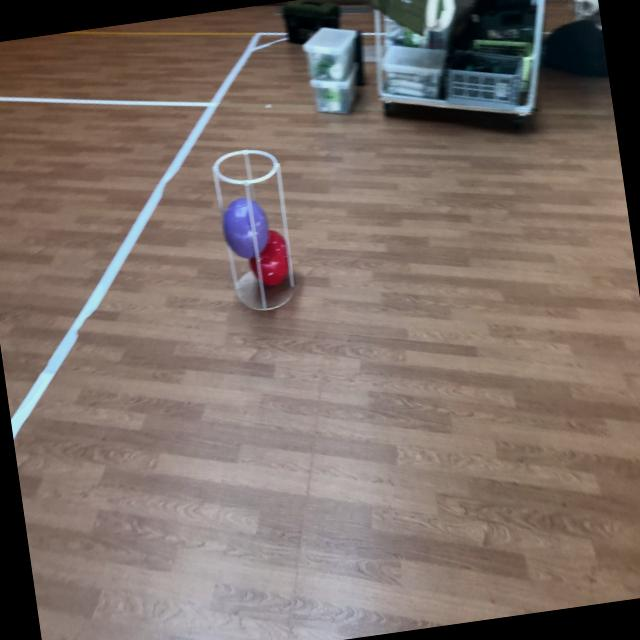purple_ball: (218, 195, 273, 260)
red_ball: (245, 229, 298, 288)
